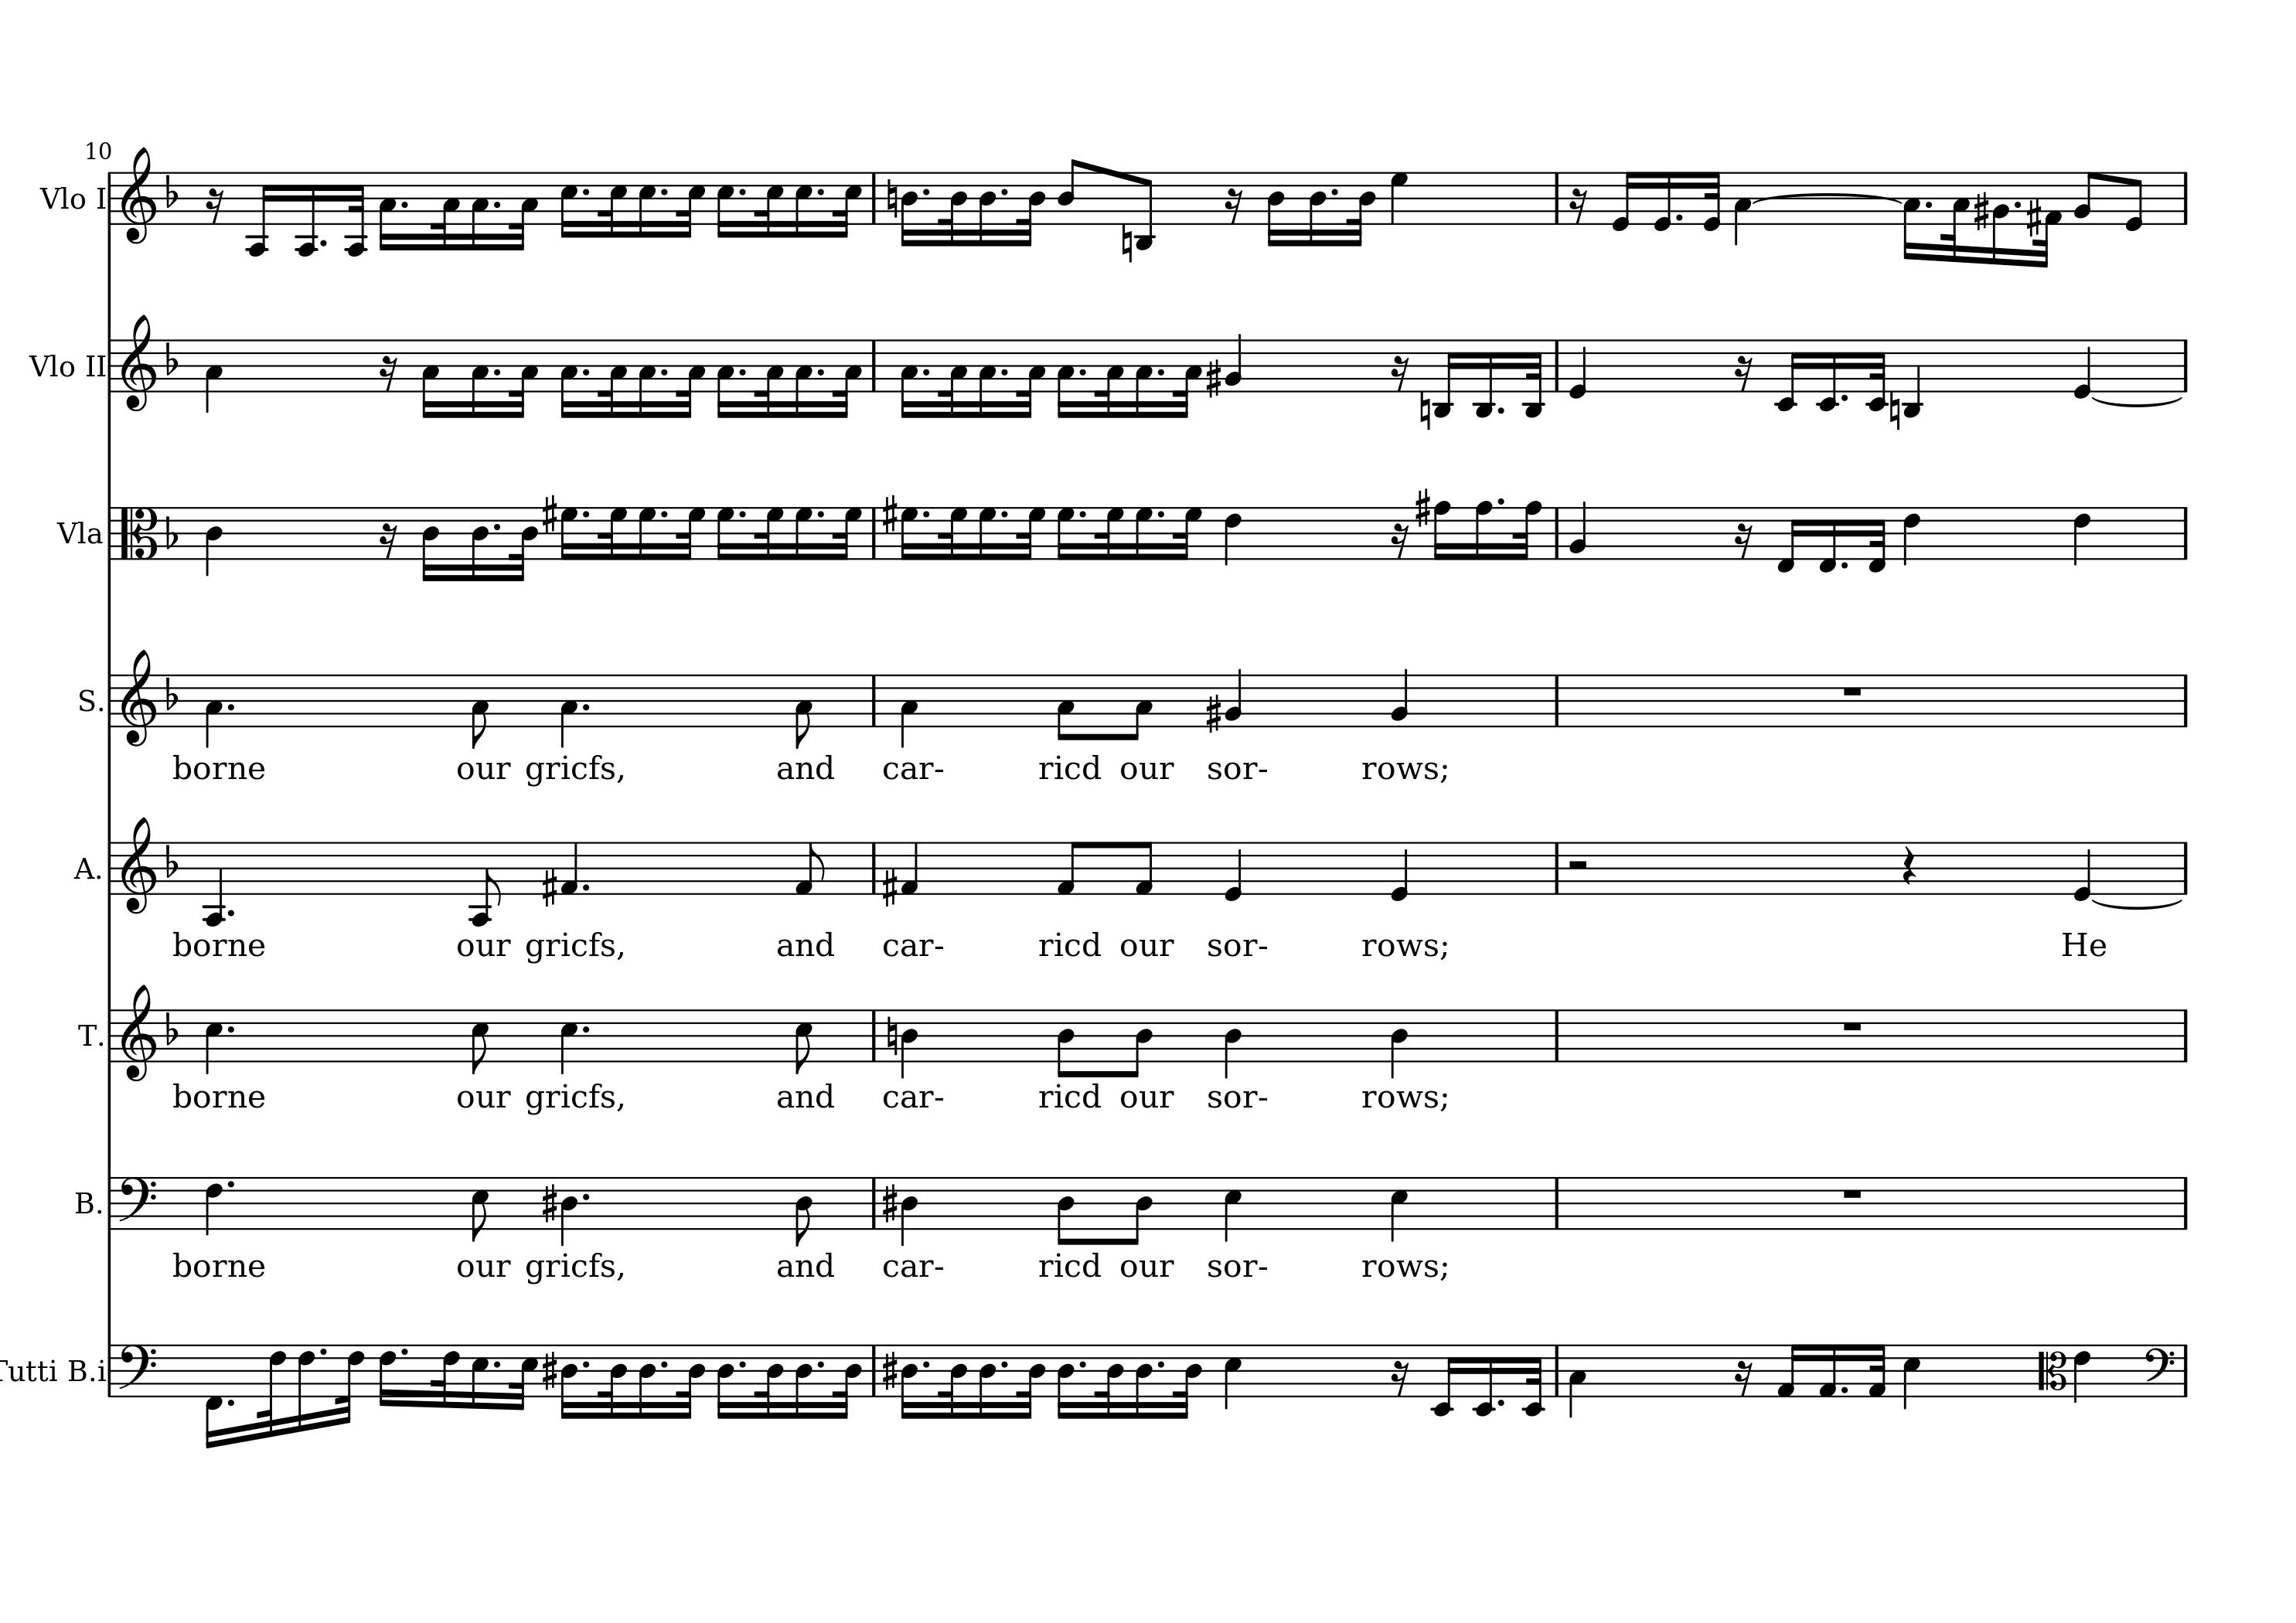0: (97, 137, 112, 162)
1: (84, 137, 97, 162)
16_-1: (206, 1340, 225, 1447), (1776, 506, 1801, 573), (1818, 504, 1838, 573)
16_-2: (1774, 337, 1802, 413), (1430, 1342, 1458, 1417), (1472, 1342, 1495, 1417), (1816, 337, 1838, 413), (1523, 1342, 1544, 1417)
16_-3: (1432, 337, 1458, 418), (1472, 337, 1497, 418)
16_-4: (246, 169, 276, 256), (293, 169, 318, 258)
16_0: (1611, 170, 1637, 232), (1651, 169, 1672, 232)
16_1: (1776, 1342, 1802, 1398), (1816, 1342, 1838, 1398)
16_2: (1990, 169, 2011, 265)
16_3: (1903, 170, 1922, 262), (559, 337, 580, 418), (977, 337, 998, 418), (1056, 337, 1075, 420), (378, 170, 397, 251), (471, 170, 490, 251), (420, 337, 439, 418), (471, 337, 490, 418), (638, 337, 657, 418), (717, 337, 736, 418), (794, 337, 813, 418), (899, 337, 919, 418), (1135, 337, 1154, 418)
16_4: (977, 169, 998, 248), (1265, 169, 1286, 248), (1307, 169, 1328, 248), (1135, 1342, 1154, 1421), (899, 170, 919, 248), (420, 506, 439, 583), (471, 506, 490, 583), (638, 1344, 657, 1421), (717, 1344, 736, 1421), (978, 1344, 998, 1421), (794, 1344, 813, 1419), (560, 1344, 578, 1421), (901, 1344, 919, 1421), (1058, 1344, 1075, 1421), (887, 177, 910, 227)
16_5: (559, 170, 580, 239), (638, 170, 657, 239), (715, 170, 734, 239), (794, 170, 813, 239), (471, 1344, 490, 1410)
16_6: (297, 1342, 316, 1433), (379, 1344, 397, 1409)
16_7: (638, 504, 657, 562), (794, 506, 813, 562), (978, 506, 998, 562), (1135, 506, 1154, 562), (560, 506, 580, 560), (1056, 508, 1075, 562), (899, 504, 917, 560), (717, 506, 734, 560)
16_8: (1432, 499, 1451, 562), (1474, 499, 1493, 560)
32_-1: (1867, 506, 1888, 573)
32_-2: (1867, 339, 1890, 411)
32_-3: (1523, 337, 1546, 418)
32_-4: (346, 172, 367, 258)
32_0: (1702, 170, 1723, 232)
32_1: (2038, 170, 2064, 271)
32_3: (1941, 169, 1971, 263), (430, 169, 460, 251), (509, 169, 539, 251), (676, 335, 706, 418), (833, 335, 863, 418), (1094, 335, 1124, 418), (509, 337, 539, 418), (938, 337, 968, 418), (1015, 337, 1045, 418), (599, 335, 627, 418), (1173, 335, 1202, 418), (755, 337, 783, 418), (1867, 1342, 1887, 1398)
32_4: (509, 504, 541, 581), (833, 1344, 864, 1419), (1015, 169, 1045, 248), (938, 169, 968, 246), (1347, 170, 1377, 248), (599, 1342, 629, 1419), (1173, 1342, 1203, 1419), (678, 1342, 706, 1419), (940, 1342, 968, 1419), (1017, 1342, 1045, 1419), (1096, 1342, 1124, 1419), (755, 1344, 783, 1419)
32_5: (833, 170, 864, 239), (597, 170, 627, 239), (676, 170, 706, 239), (755, 170, 785, 239), (509, 1345, 539, 1410)
32_6: (258, 1344, 286, 1439), (336, 1340, 365, 1425), (432, 1344, 460, 1409)
32_7: (597, 508, 627, 562), (1173, 506, 1203, 560), (676, 506, 706, 560), (938, 508, 968, 560), (1017, 508, 1047, 560), (1094, 508, 1124, 560), (755, 508, 783, 560), (834, 508, 863, 560)
32_8: (1514, 499, 1541, 560)
4_-3: (1903, 337, 1924, 418)
4_-4: (204, 838, 227, 927)
4_0: (2071, 337, 2092, 400), (1567, 337, 1588, 399), (2071, 840, 2092, 901), (1390, 840, 1409, 901), (1224, 840, 1242, 901)
4_1: (560, 840, 580, 896), (901, 840, 919, 896)
4_2: (1567, 499, 1588, 560), (1224, 666, 1244, 729), (1224, 332, 1244, 393), (1390, 666, 1409, 727)
4_3: (204, 335, 225, 413), (559, 673, 580, 748), (206, 671, 225, 748), (1732, 170, 1751, 246), (1567, 1342, 1586, 1417), (901, 673, 919, 748)
4_4: (559, 1175, 580, 1247), (1390, 1008, 1409, 1080), (899, 1175, 919, 1247), (204, 506, 223, 576), (899, 1008, 919, 1078), (1224, 1008, 1242, 1080)
4_5: (204, 1006, 225, 1075), (559, 1008, 580, 1075), (1223, 1175, 1242, 1244), (1390, 1175, 1409, 1244), (1903, 1342, 1922, 1410), (1223, 1344, 1242, 1410)
4_6: (2071, 504, 2092, 566), (1223, 506, 1242, 567), (1903, 506, 1922, 567), (206, 1175, 225, 1235), (2073, 1342, 2090, 1403)
4_7: (1390, 170, 1409, 225)
8_-3: (1135, 170, 1156, 251)
8_-4: (471, 838, 502, 927)
8_0: (2124, 170, 2145, 232)
8_1: (794, 840, 826, 896), (1056, 840, 1084, 896), (1135, 840, 1154, 896)
8_2: (2073, 169, 2096, 225)
8_3: (1128, 671, 1154, 741), (471, 673, 490, 750), (794, 673, 813, 750), (1056, 673, 1075, 741)
8_4: (1126, 1175, 1154, 1247), (1126, 1008, 1154, 1078), (1058, 156, 1080, 225), (1056, 1008, 1077, 1080), (794, 1175, 813, 1247), (1056, 1175, 1075, 1247)
8_5: (471, 1175, 492, 1244), (471, 1008, 490, 1075), (794, 1008, 813, 1075)
Cclef: (118, 506, 158, 562), (2038, 1344, 2068, 1396)
Fclef: (119, 1173, 162, 1230), (118, 1342, 158, 1398), (2143, 1342, 2177, 1398)
Flat: (163, 339, 181, 378), (163, 1010, 181, 1047), (163, 172, 179, 209), (163, 674, 179, 711), (163, 841, 179, 878), (165, 515, 179, 550)
Gclef: (119, 144, 158, 246), (119, 313, 156, 413), (121, 982, 158, 1082), (121, 815, 158, 913), (121, 648, 156, 747)
Natural: (1119, 221, 1135, 263), (1418, 388, 1432, 432), (1888, 388, 1903, 430), (885, 176, 898, 220), (885, 1013, 898, 1056)
Rests1: (1839, 1017, 1864, 1033), (1839, 683, 1864, 697), (1839, 1186, 1864, 1200)
Rests16: (1567, 186, 1588, 223), (378, 355, 399, 392), (1390, 355, 1411, 392), (1390, 1360, 1411, 1396), (206, 186, 225, 225), (1224, 186, 1244, 225), (379, 522, 399, 560), (1390, 522, 1409, 560), (1734, 522, 1753, 560), (1734, 355, 1753, 392), (1734, 1360, 1753, 1396)
Rests2: (1565, 857, 1590, 873)
Rests4: (1901, 843, 1917, 887)
Sharp: (1412, 485, 1432, 529), (880, 1180, 898, 1224), (1973, 188, 1990, 230), (1205, 357, 1223, 399), (1205, 692, 1223, 734), (880, 866, 898, 908), (541, 1182, 559, 1224), (541, 494, 559, 534), (880, 494, 898, 534), (2025, 195, 2041, 239), (882, 1349, 898, 1391), (541, 866, 557, 906), (541, 1351, 557, 1389)
Single_barline: (2175, 506, 2192, 559), (2175, 674, 2192, 727), (1548, 841, 1565, 894), (2175, 841, 2192, 894), (2175, 1008, 2192, 1061), (1549, 1177, 1567, 1230), (2175, 1177, 2192, 1230), (864, 841, 882, 892), (1549, 1010, 1567, 1061), (104, 170, 119, 225), (2177, 339, 2192, 392), (1549, 674, 1565, 727), (866, 1175, 882, 1228), (1549, 1344, 1565, 1396), (1549, 172, 1565, 223), (866, 172, 882, 223), (104, 508, 119, 559), (866, 674, 882, 725), (866, 1010, 882, 1061), (104, 673, 118, 727), (105, 339, 119, 392), (1549, 339, 1563, 392), (104, 841, 118, 894), (104, 1177, 118, 1230), (2178, 1344, 2192, 1396), (2178, 172, 2192, 223), (866, 341, 880, 392), (1549, 508, 1563, 559), (866, 508, 880, 559), (104, 1010, 118, 1061), (104, 1344, 118, 1395), (868, 1345, 882, 1396)
Slur: (2090, 898, 2184, 910), (2090, 397, 2182, 406)
Vla: (56, 515, 104, 550)
dot: (657, 1358, 671, 1370), (1154, 1358, 1168, 1370), (225, 906, 237, 919), (580, 1189, 592, 1201), (580, 1358, 592, 1370), (490, 1358, 502, 1370), (998, 1358, 1010, 1370), (1839, 1382, 1852, 1395), (657, 186, 671, 197), (657, 367, 671, 378), (1154, 509, 1168, 520), (998, 186, 1010, 197), (1328, 186, 1340, 197), (580, 186, 592, 197), (736, 186, 748, 197), (813, 186, 826, 197), (490, 198, 502, 209), (1922, 198, 1934, 209), (490, 367, 502, 378), (580, 367, 592, 378), (736, 367, 748, 378), (921, 367, 933, 378), (998, 367, 1010, 378), (1077, 367, 1089, 378), (1154, 367, 1166, 378), (1495, 495, 1505, 508), (657, 509, 669, 520), (813, 509, 826, 520), (490, 522, 502, 532), (580, 1022, 592, 1033), (225, 1177, 235, 1189), (736, 1358, 748, 1368), (813, 1358, 826, 1368), (1077, 1358, 1089, 1368), (225, 1396, 237, 1407), (921, 186, 931, 197), (399, 198, 409, 209), (2011, 198, 2022, 209), (318, 237, 329, 248), (815, 367, 826, 378), (1839, 392, 1850, 402), (1495, 404, 1505, 415), (921, 509, 931, 520), (1839, 560, 1850, 571), (580, 701, 590, 711), (318, 1345, 329, 1356), (399, 1345, 409, 1356), (921, 1358, 931, 1368), (1495, 1396, 1505, 1407), (580, 509, 592, 518), (736, 509, 748, 518), (998, 509, 1010, 518), (1674, 211, 1683, 221), (1077, 509, 1087, 518), (225, 701, 235, 710), (580, 882, 590, 891), (225, 1024, 235, 1033)
